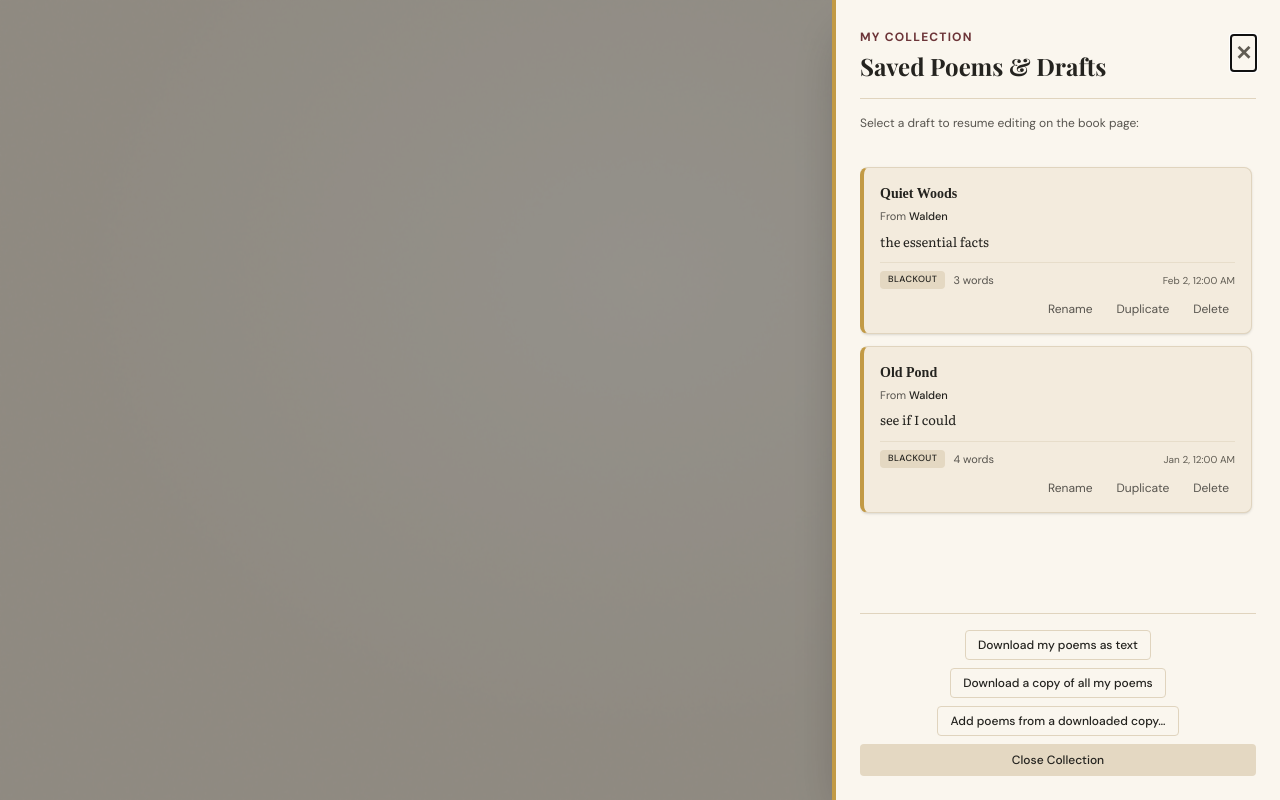
duplicating › adds a copy titled with "(copy)" in parentheses, at the top, and says so
Click the 2nd button "Duplicate".
click(1143, 488)  # box [1106, 476, 1179, 500]
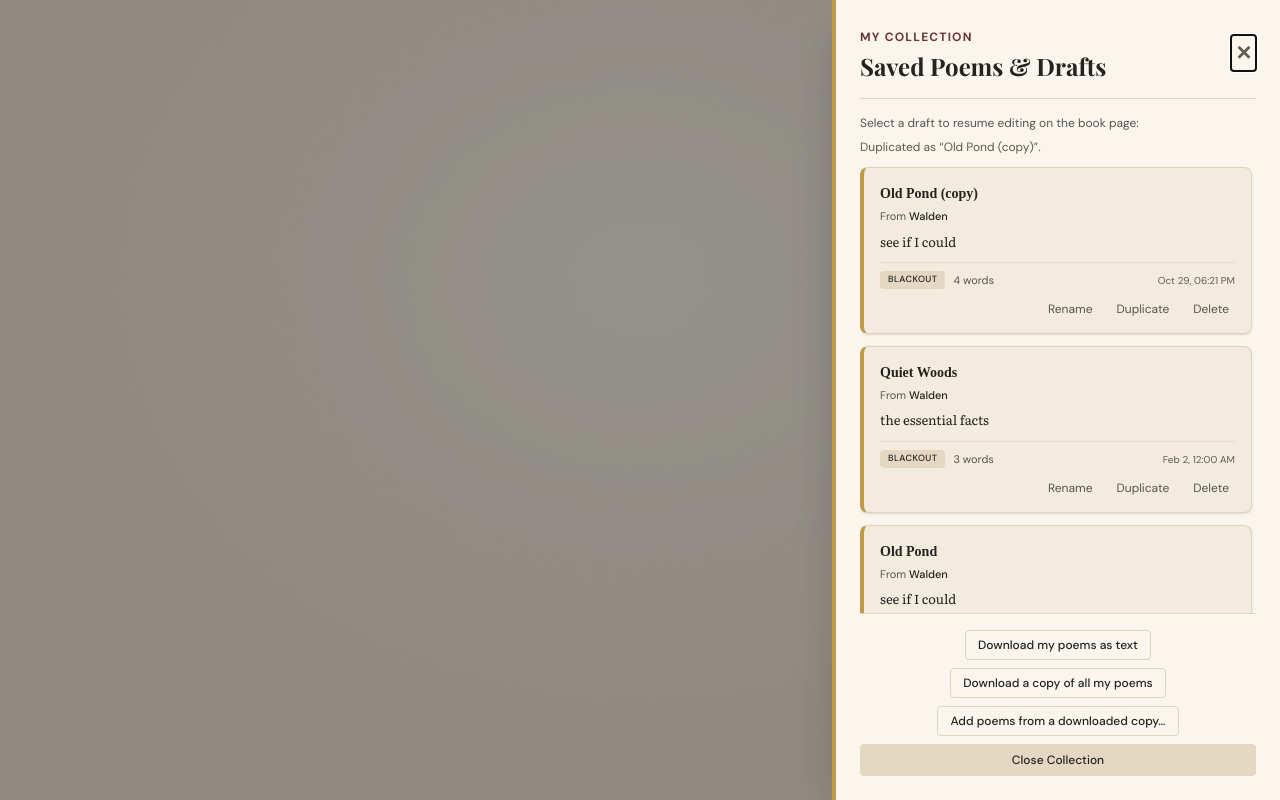
Now the message "Duplicated as “Old Pond (copy)”." is shown, box [860, 139, 1041, 155]
